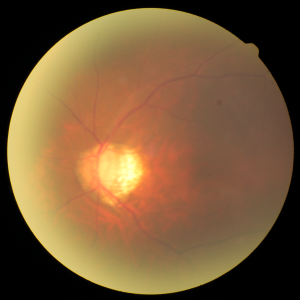glaucoma: (42, 109, 237, 224)
